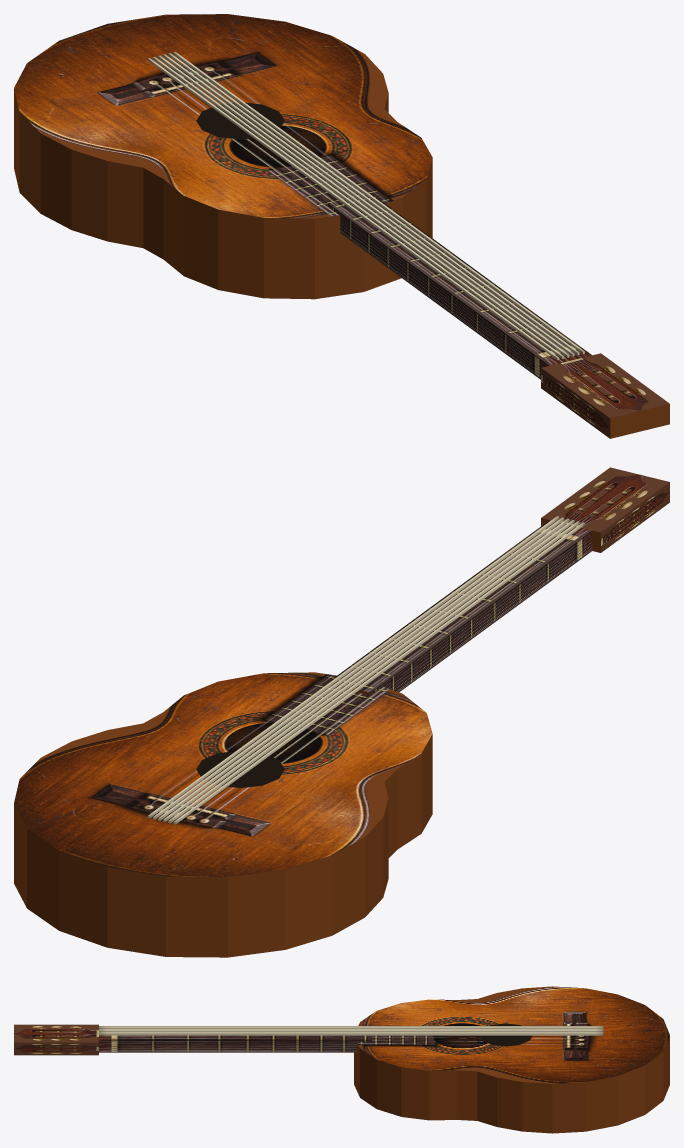
The model's file is Instrument_Guitar.glb.
The picture shows the model from 3 angles, top to bottom: view 1: azimuth 30°, elevation 25°; view 2: azimuth 150°, elevation 25°; view 3: azimuth 270°, elevation 25°; orthographic projection. The views are drawn at different scales.
Parts seen in each view (by area): view 1: model_Instrument_Guitar; view 2: model_Instrument_Guitar; view 3: model_Instrument_Guitar.
Boxes of the visible parts, x1,y1,x2,y2 form: model_Instrument_Guitar: [14, 14, 669, 438]; model_Instrument_Guitar: [14, 467, 669, 957]; model_Instrument_Guitar: [14, 986, 669, 1133].
Bounding box in the file's own units: 0.3799 × 0.0995 × 1.08.
Materials: 1 (1 with a texture image).
